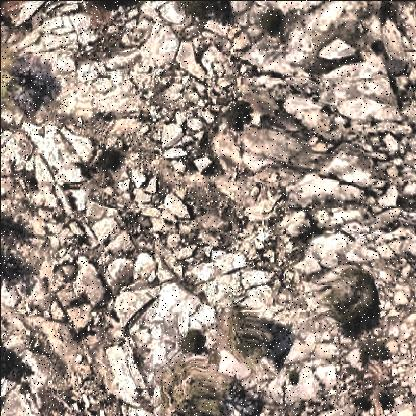tree-top: (314, 269, 384, 331), (214, 307, 274, 367)
